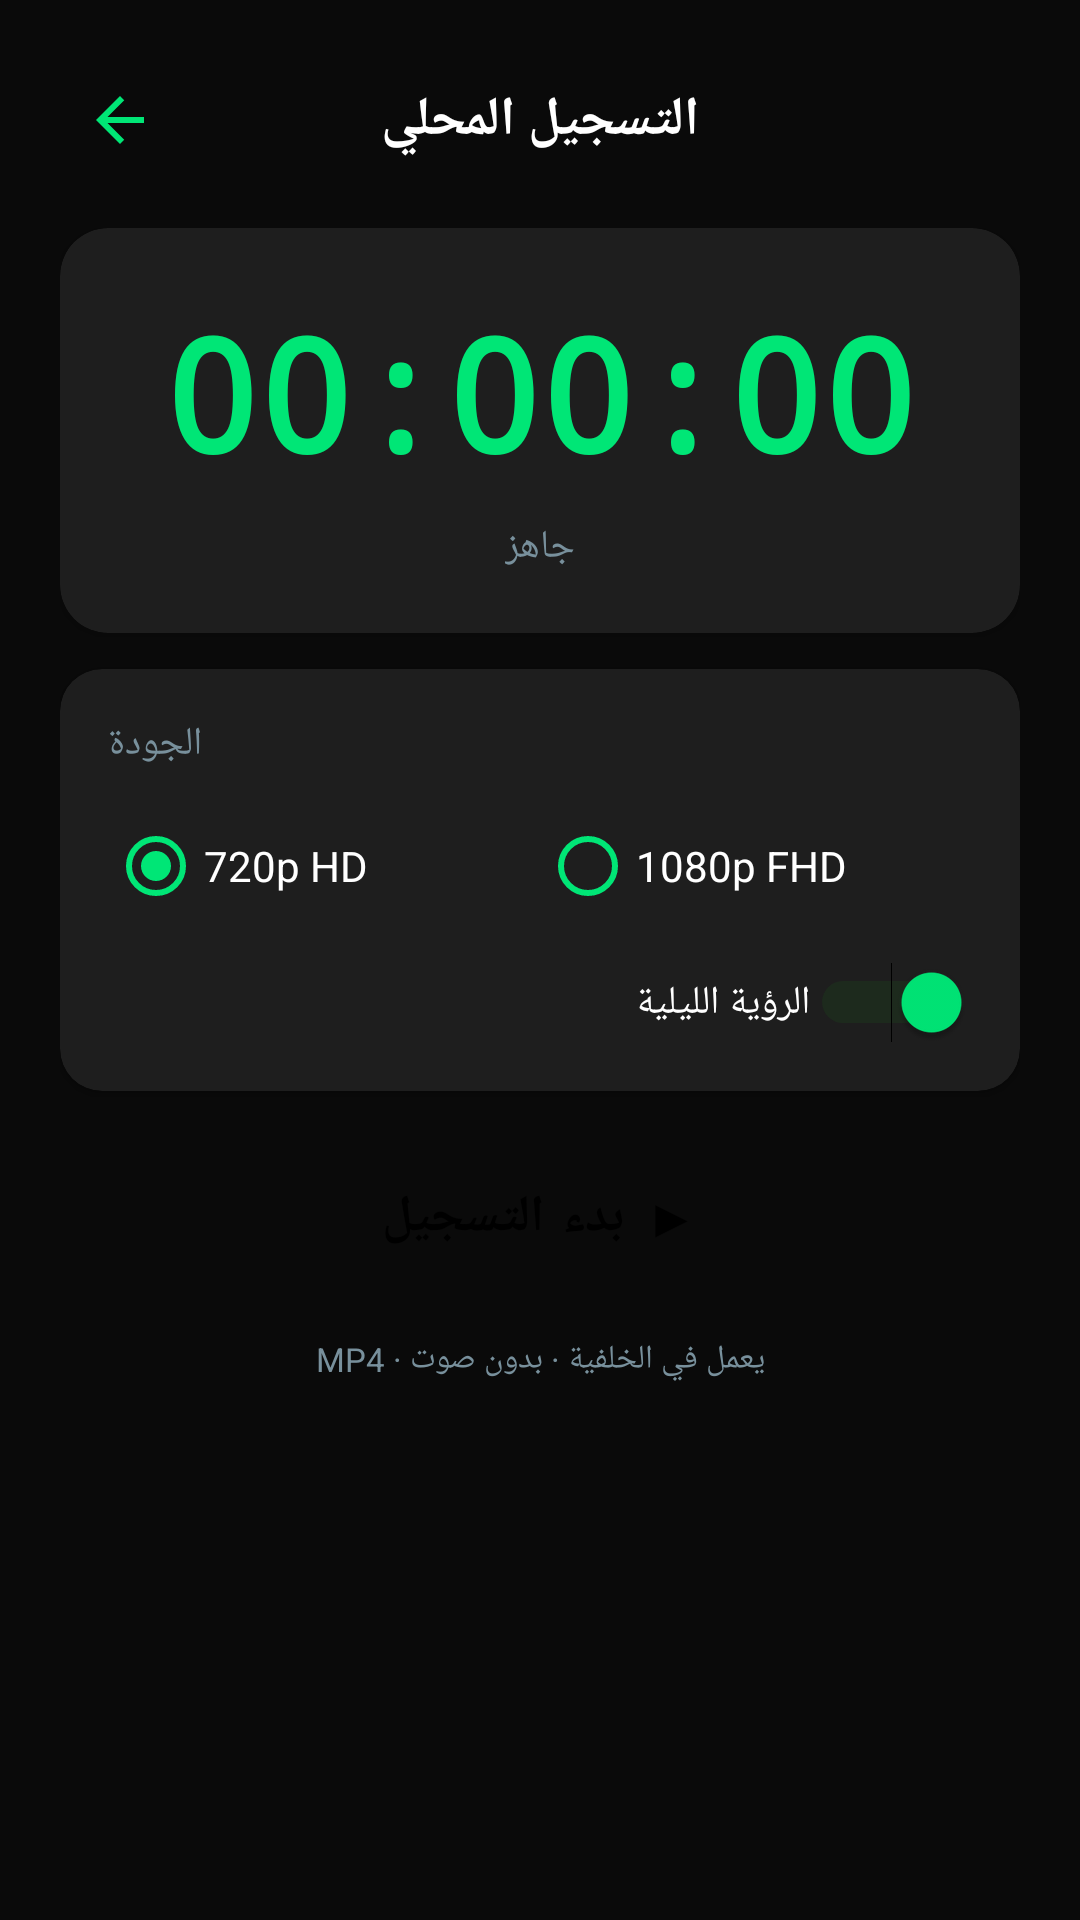

Icon bounding boxes for this 1080 x 1920 phone screenshot, format (x1,y1,x2,y2):
arrow back: (96,96,144,144)
